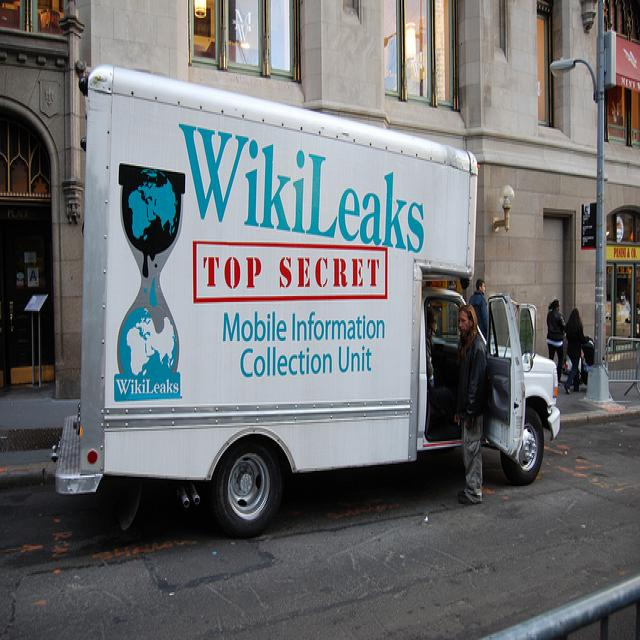Vehicle: (58, 68, 563, 540)
